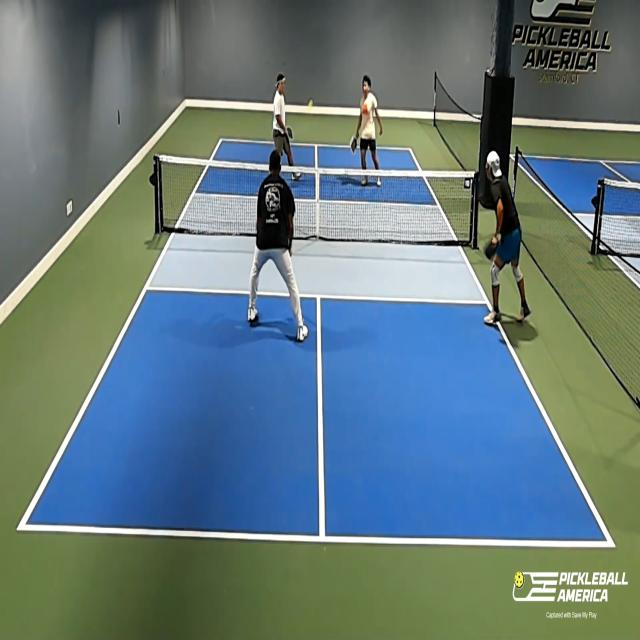Pickleball: (307, 98, 313, 111)
